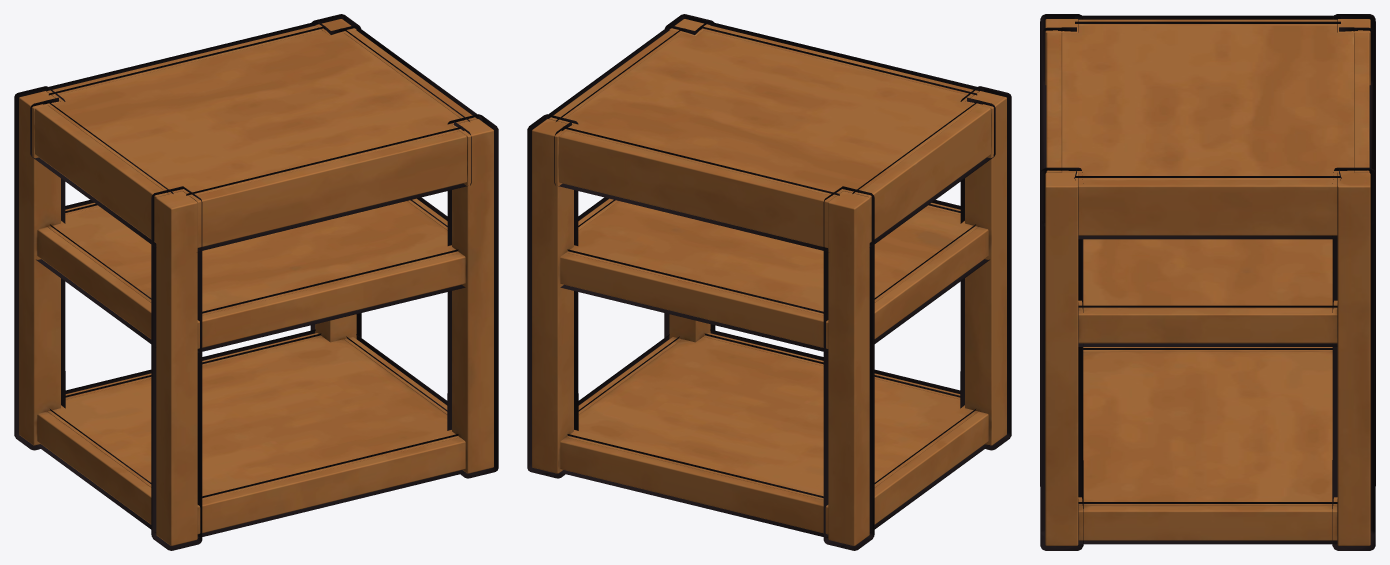
The model's file is SM_Int_SideTable.fbx.
3 views of the same model, side by side, from view 1: azimuth 30°, elevation 25°; view 2: azimuth 150°, elevation 25°; view 3: azimuth 270°, elevation 25° (orthographic). The views are drawn at different scales.
Parts seen in each view (by area): view 1: SM_Int_SideTable; view 2: SM_Int_SideTable; view 3: SM_Int_SideTable.
Boxes of the visible parts, left/top/right/bottom form: SM_Int_SideTable: left=14, top=14, right=498, bottom=550; SM_Int_SideTable: left=527, top=14, right=1011, bottom=550; SM_Int_SideTable: left=1040, top=14, right=1375, bottom=550.
Size of what is drawn, in the model's own units: 0.6149 by 0.6158 by 0.5059.
